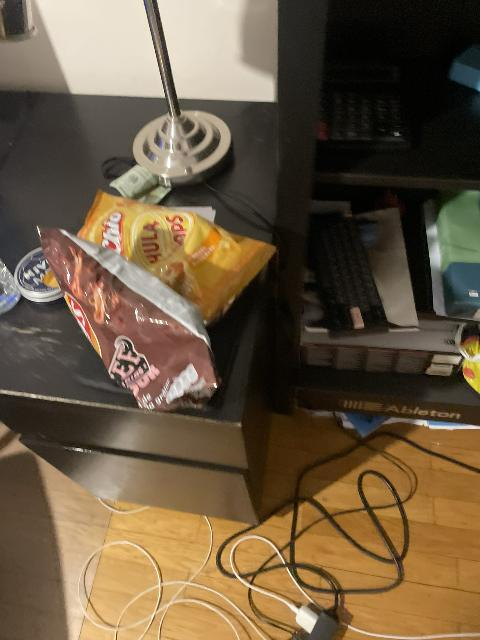Chio Hula Hoops Cheese 70g: (72, 192, 277, 325)
Lays Beef Grilled Ribs 125g: (27, 223, 220, 408)
